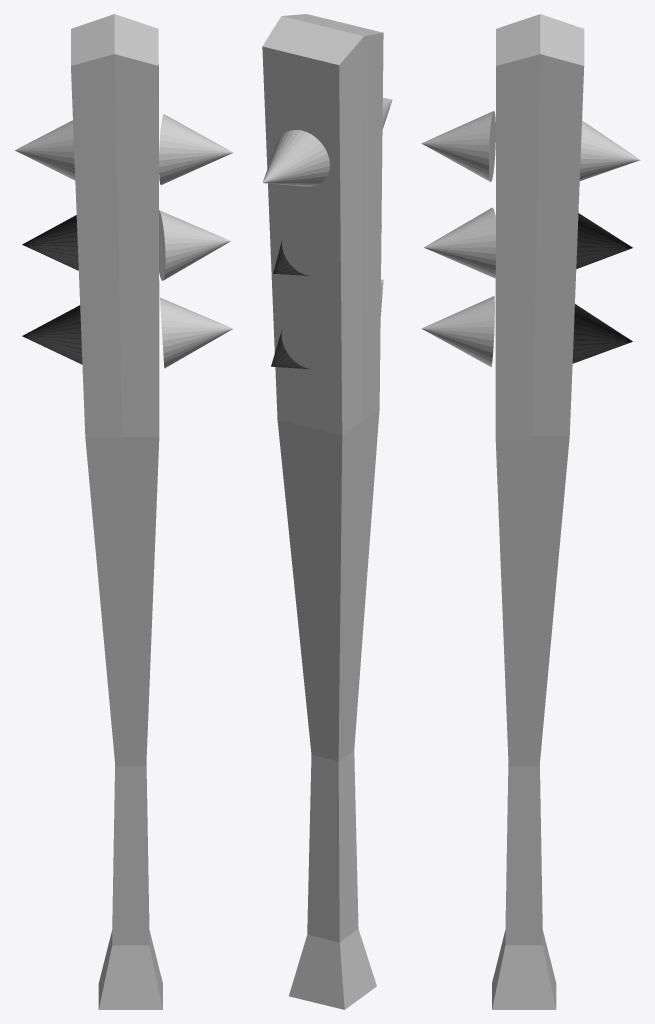
Rendered from weapon.fbx.
3 views of the same model, side by side, from view 1: azimuth 90°, elevation 25°; view 2: azimuth 150°, elevation 25°; view 3: azimuth 270°, elevation 25° (orthographic).
Parts seen in each view (by area): view 1: Weapon\.001; view 2: Weapon\.001; view 3: Weapon\.001.
Part boxes in pixels (box(x1,y1,x2,y2)): Weapon\.001: box(15, 14, 232, 1009); Weapon\.001: box(262, 14, 392, 1009); Weapon\.001: box(421, 14, 640, 1009).
Bounding box in the file's own units: 36.42 × 408 × 84.29.
